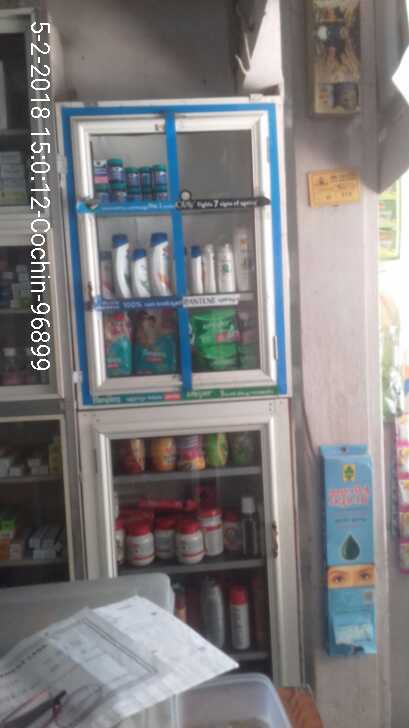vicks: (90, 157, 167, 206)
